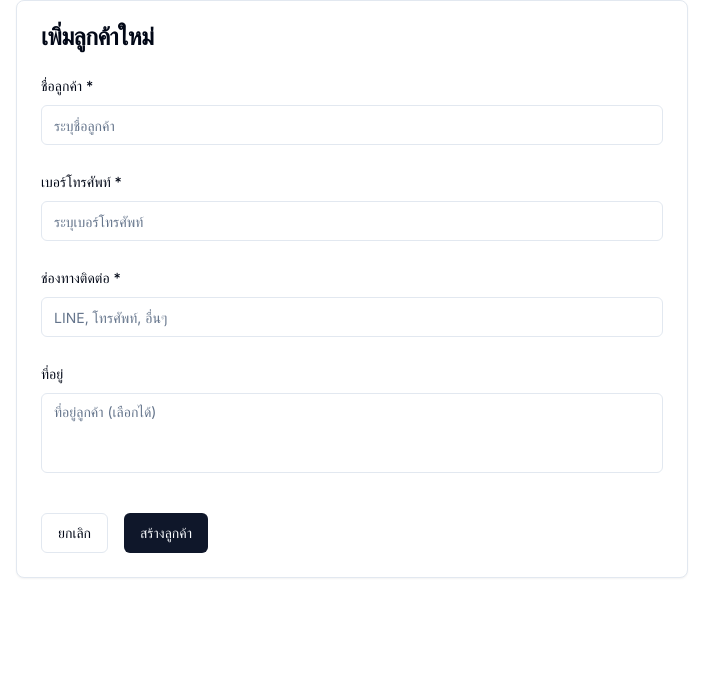
Test: CustomerForm › Create Mode › should validate required fields
Click the button "สร้างลูกค้า": (166, 533) x1=124 y1=513 x2=208 y2=553
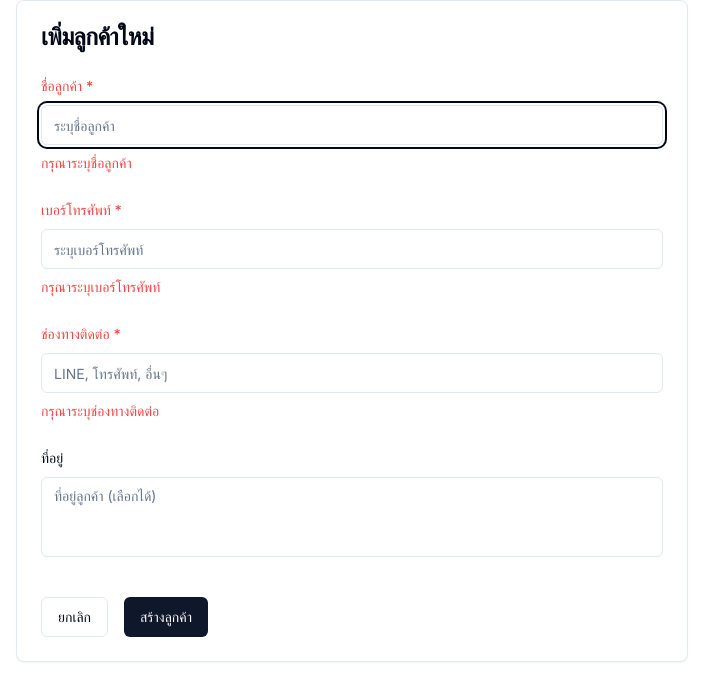
Check: the text "กรุณาระบุชื่อลูกค้า" is shown, box x1=41 y1=154 x2=132 y2=171
Check: the text "กรุณาระบุเบอร์โทรศัพท์" is shown, box x1=41 y1=278 x2=160 y2=295
Check: the text "กรุณาระบุช่องทางติดต่อ" is shown, box x1=41 y1=402 x2=159 y2=419
